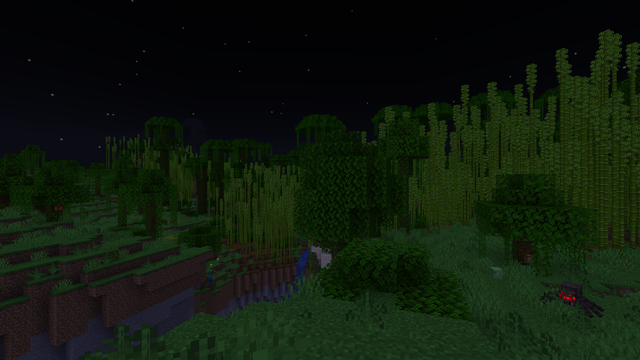araignees: (542, 278, 600, 316)
slimes: (489, 266, 502, 279)
zombies: (207, 270, 213, 285)
